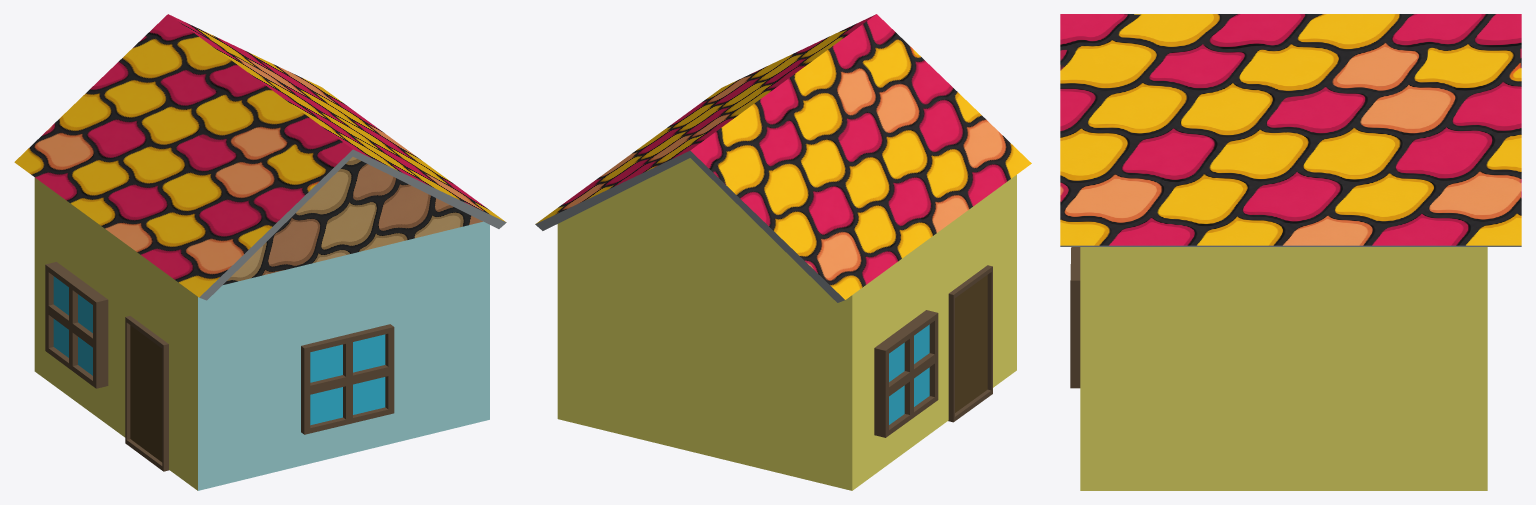
File: Demo7.glb
3 renders of one model, left to right at view 1: azimuth 30°, elevation 25°; view 2: azimuth 150°, elevation 25°; view 3: azimuth 270°, elevation 25°, orthographic. The views are drawn at different scales.
Visible parts, largest first — view 1: ventana; view 2: ventana; view 3: ventana.
Part boxes in pixels (bbox=[...]): ventana: bbox=[14, 14, 506, 490]; ventana: bbox=[535, 14, 1031, 490]; ventana: bbox=[1060, 14, 1521, 490].
Bounding box in the file's own units: 4.82 × 4.6 × 4.94.
Materials: 10 (2 with a texture image).
